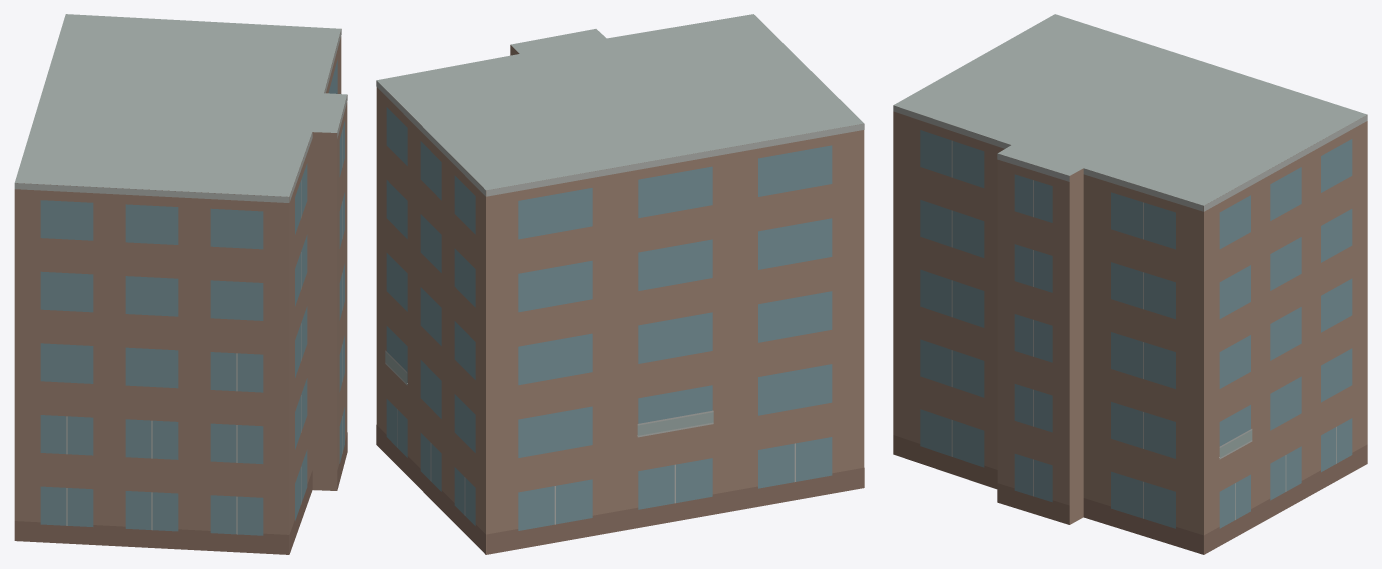
The model's file is survey-upis-32704566.glb.
The picture shows the model from 3 angles, left to right: view 1: azimuth 30°, elevation 25°; view 2: azimuth 150°, elevation 25°; view 3: azimuth 270°, elevation 25°; orthographic projection. The views are drawn at different scales.
Parts seen in each view (by area): view 1: survey-upis-32704566.tmp; view 2: survey-upis-32704566.tmp; view 3: survey-upis-32704566.tmp.
Boxes of the visible parts, x1,y1,x2,y2 form: survey-upis-32704566.tmp: [14, 14, 347, 554]; survey-upis-32704566.tmp: [376, 14, 864, 554]; survey-upis-32704566.tmp: [893, 14, 1367, 554].
Size of the model in its own units: 16.5 by 14 by 17.25.
